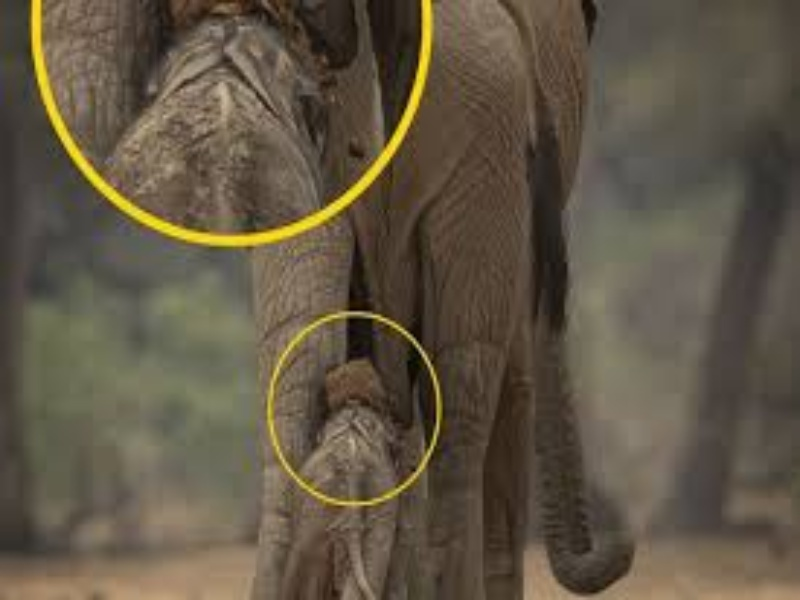elephant: (190, 1, 635, 600)
